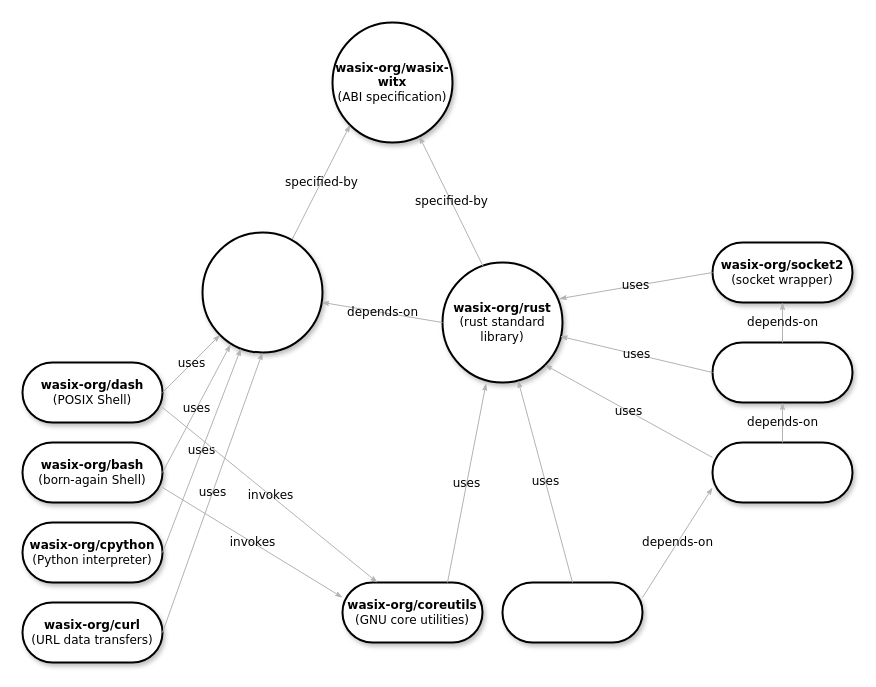
Some shapes in this 876 by 687 pixel diagram are drawn without their labels. The shapes that lost their labels are listed below. From the top down, each one's centre as x and y in pixels, then its label:
[263,293]: wasix-org/wasix-libc (C standard library)
[783,373]: wasix-org/mio (non-blocking IO)
[783,473]: wasix-org/tokio (non-blocking IO platform)
[573,613]: wasix-org/static-web-server (async HTTP server)
